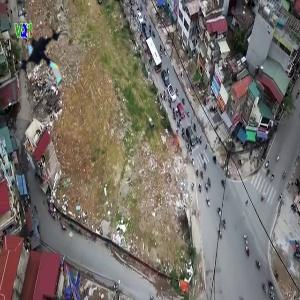drone: (7, 25, 82, 100)
